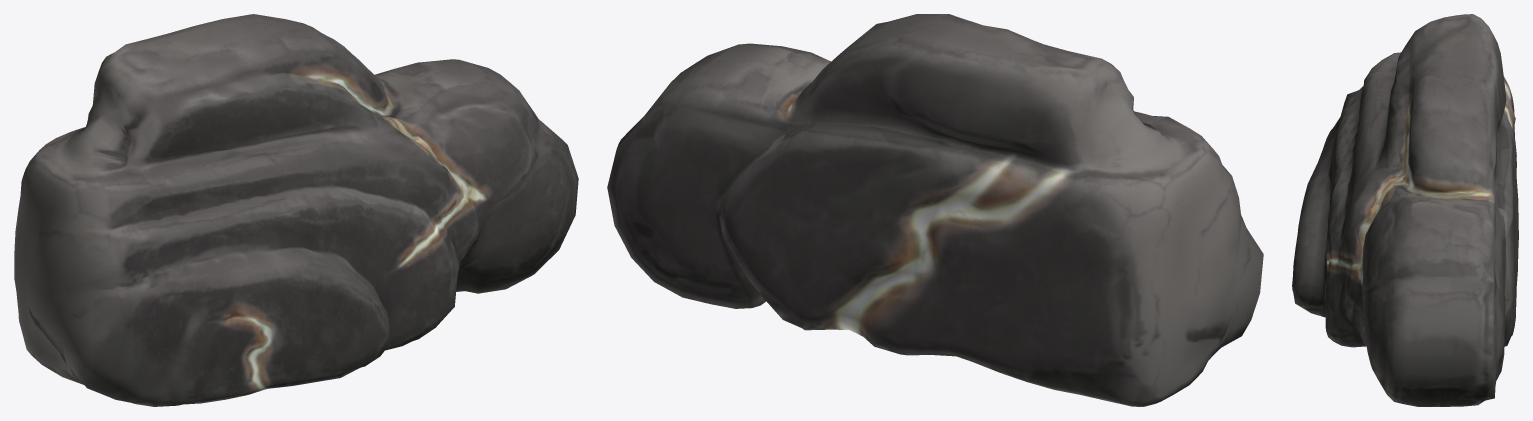
Rendered from ore_deposit_red_dream.glb.
3 renders of one model, left to right at view 1: azimuth 30°, elevation 25°; view 2: azimuth 150°, elevation 25°; view 3: azimuth 270°, elevation 25°, orthographic. The views are drawn at different scales.
Parts seen in each view (by area): view 1: ore_deposit_red; view 2: ore_deposit_red; view 3: ore_deposit_red.
Part boxes in pixels (box(x1,y1,x2,y2)): ore_deposit_red: box(14, 14, 578, 406); ore_deposit_red: box(607, 14, 1263, 406); ore_deposit_red: box(1292, 14, 1518, 406).
Size of the model in its own units: 0.4694 by 0.248 by 0.2092.
Materials: 1 (1 with a texture image).
